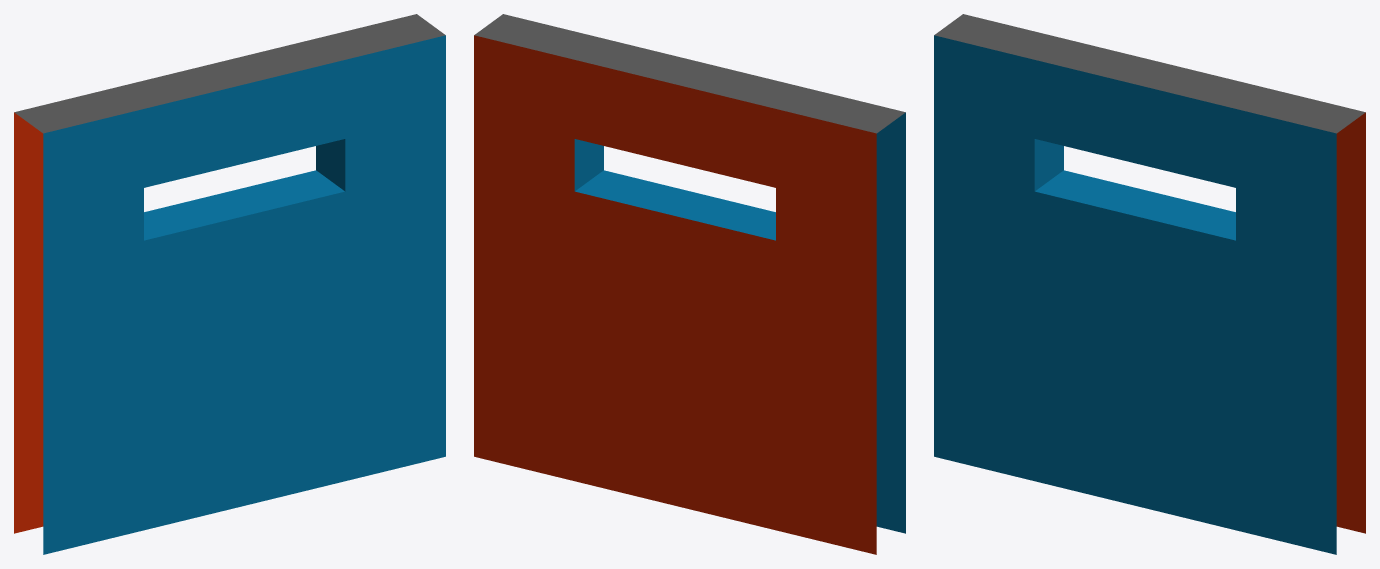
The model's file is Wall_Long_Window_4x4.fbx.
3 renders of one model, left to right at view 1: azimuth 30°, elevation 25°; view 2: azimuth 150°, elevation 25°; view 3: azimuth 330°, elevation 25°, orthographic.
Parts seen in each view (by area): view 1: Wall_Long_Window_4x4; view 2: Wall_Long_Window_4x4; view 3: Wall_Long_Window_4x4.
Part boxes in pixels (<box>): Wall_Long_Window_4x4: <box>14,14,445,554</box>; Wall_Long_Window_4x4: <box>474,14,905,554</box>; Wall_Long_Window_4x4: <box>934,14,1365,554</box>.
Size of the model in its own units: 4 by 4 by 0.5.
